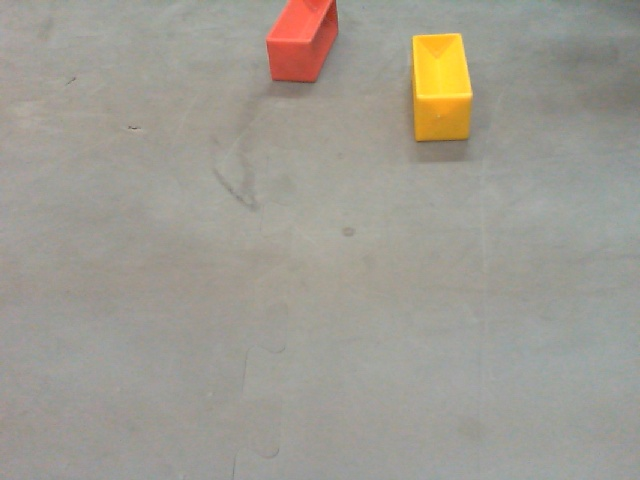RedSample: (261, 1, 338, 89)
YellowSample: (406, 29, 474, 141)
